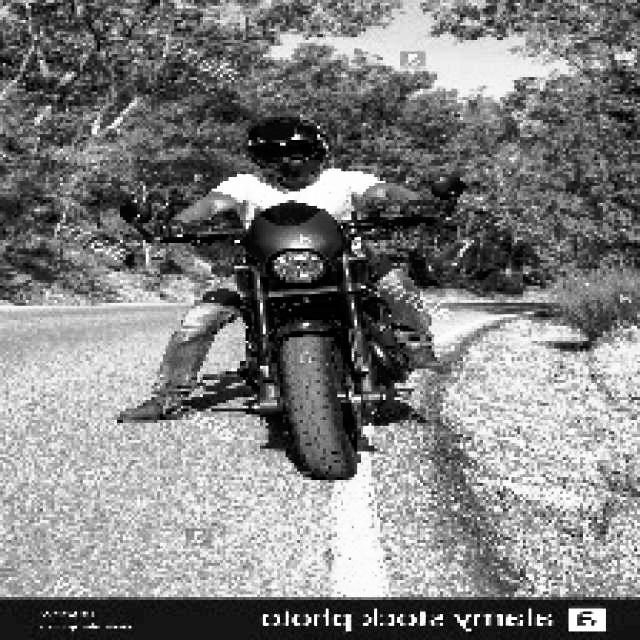Bike: (208, 206, 415, 474)
